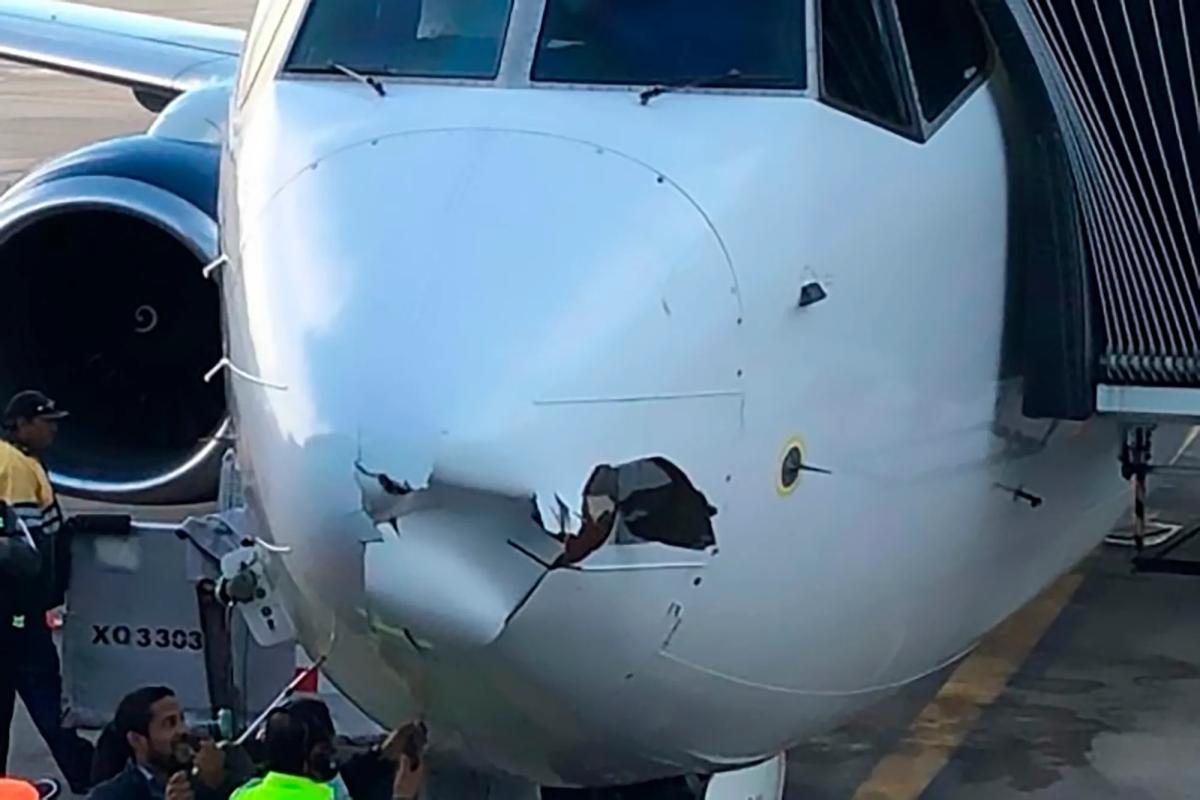Fuselage_damage: (341, 425, 730, 662), (473, 450, 724, 655), (347, 428, 439, 597), (353, 600, 435, 658)
